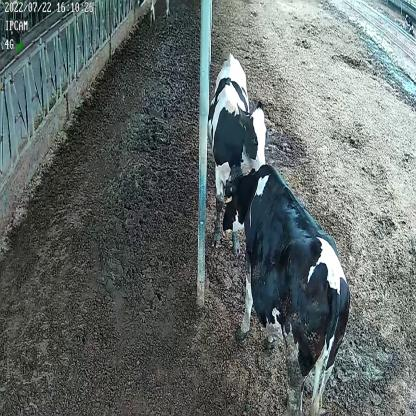cow: (220, 165, 350, 416), (209, 50, 268, 256)
